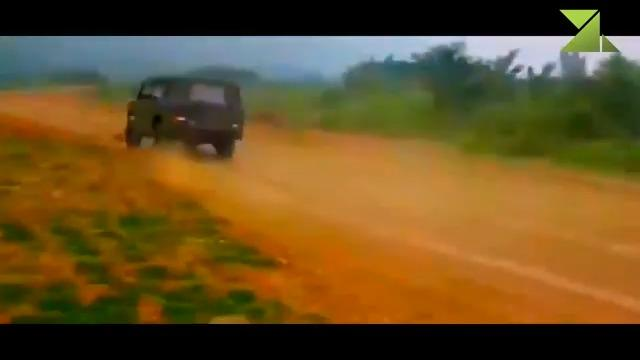MIL_HMMWV: (124, 74, 245, 159)
